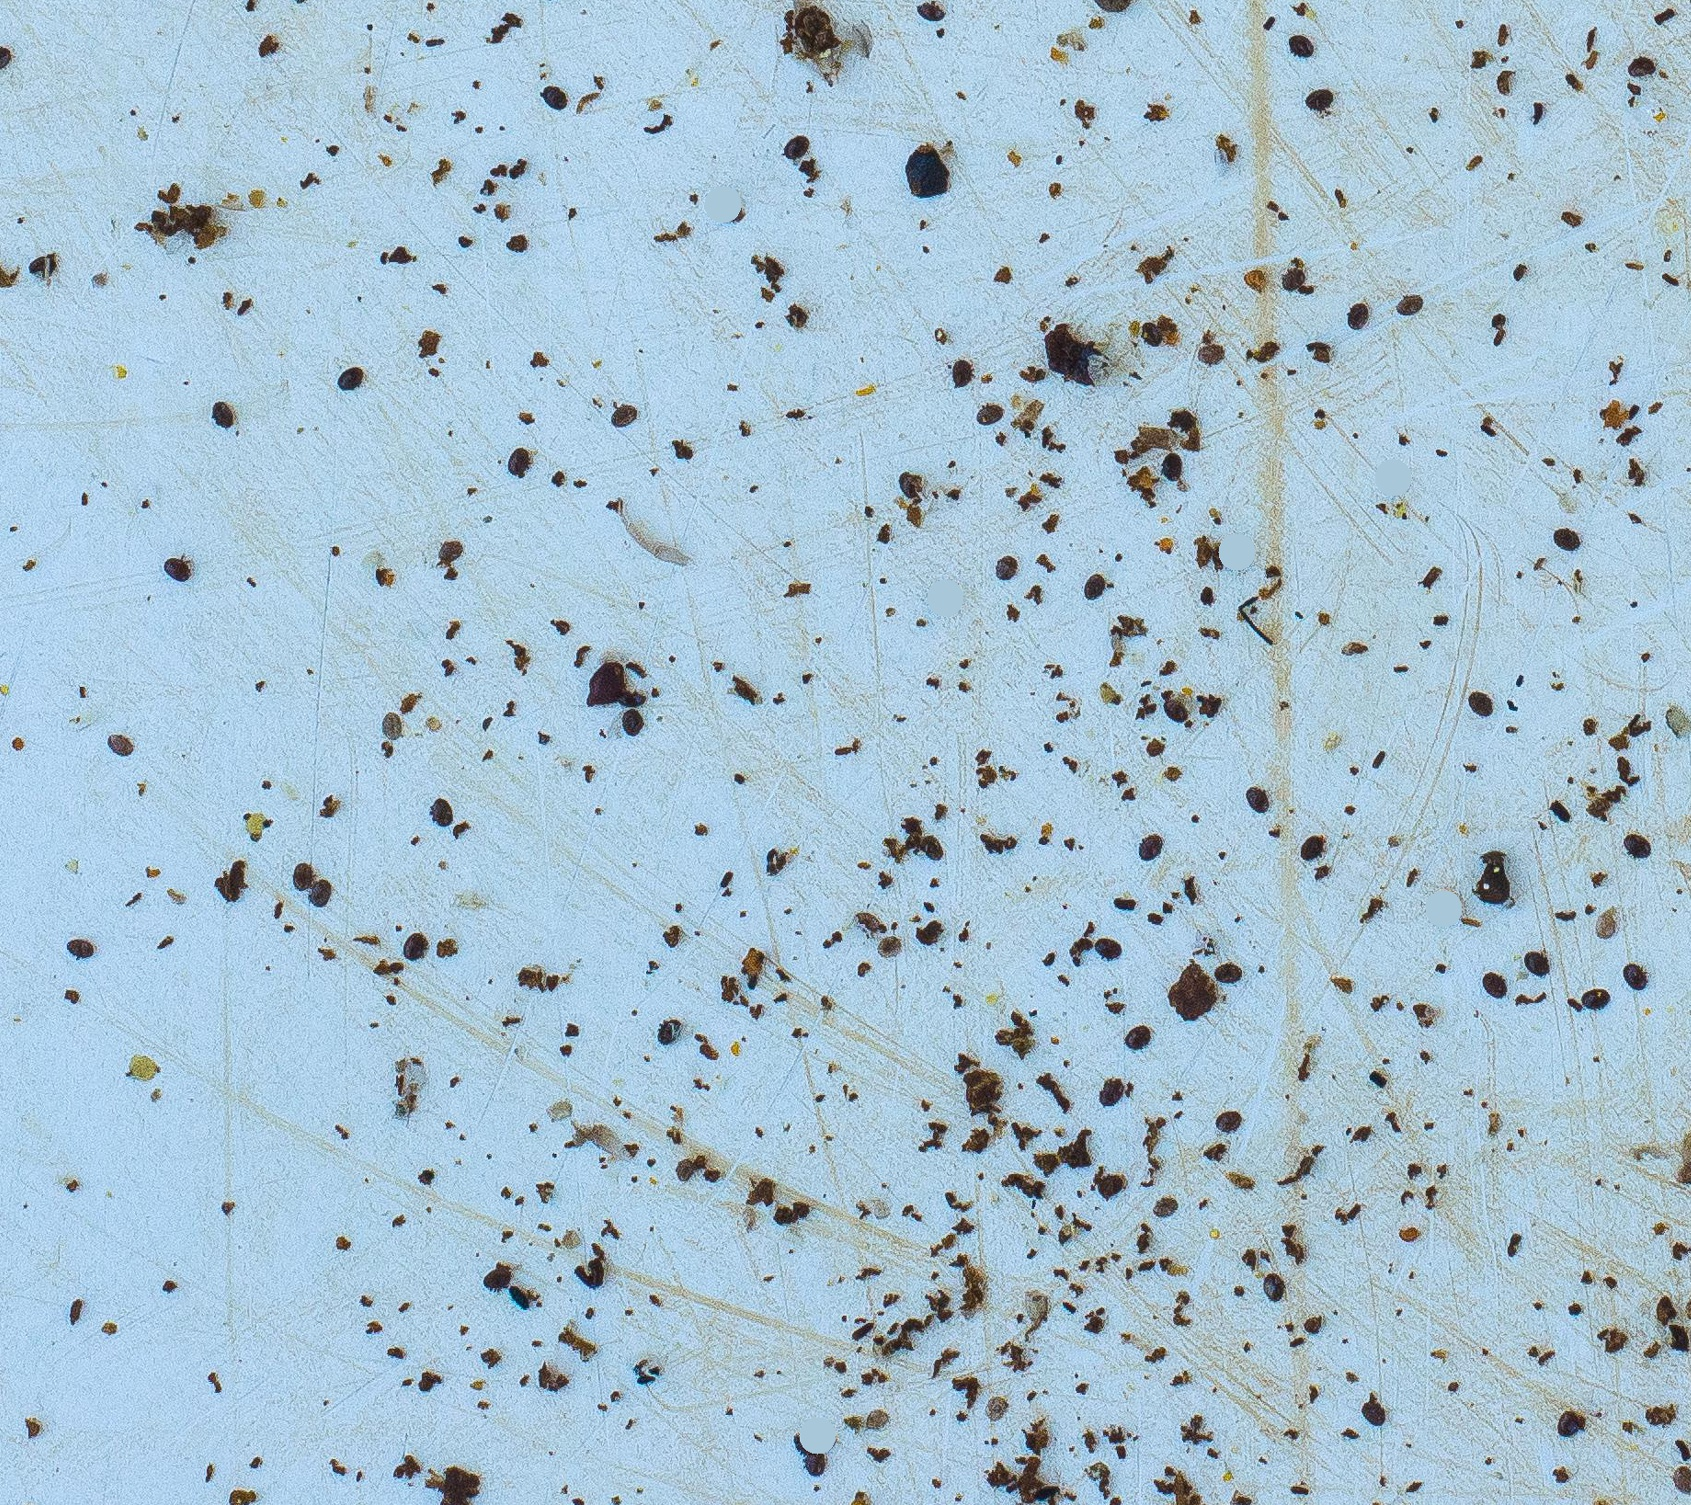Varroa: (612, 678, 651, 718), (205, 389, 241, 429), (892, 466, 928, 503), (1130, 311, 1165, 347), (986, 551, 1021, 584), (431, 532, 465, 567), (1627, 46, 1660, 81), (800, 1444, 834, 1477), (1300, 84, 1334, 118), (780, 131, 812, 166), (1276, 263, 1307, 296), (1124, 1018, 1156, 1052), (918, 829, 950, 863), (376, 707, 408, 739), (426, 795, 458, 827), (1156, 450, 1188, 482), (1339, 299, 1371, 331), (1135, 828, 1167, 860), (67, 928, 97, 962), (606, 399, 636, 431), (1358, 1395, 1389, 1427), (1076, 572, 1107, 604), (1095, 928, 1126, 960), (285, 859, 315, 891), (1469, 686, 1499, 716), (972, 401, 1002, 431), (917, 1, 947, 32), (1477, 963, 1508, 994), (1091, 1074, 1123, 1103), (1152, 1194, 1181, 1225), (539, 81, 569, 110), (301, 876, 330, 906), (487, 1267, 516, 1297), (1552, 526, 1581, 555), (1260, 1270, 1289, 1299), (1217, 959, 1246, 988), (657, 1023, 684, 1052), (338, 360, 368, 388), (1618, 957, 1646, 986), (1158, 694, 1185, 723), (949, 357, 976, 386), (407, 933, 434, 962), (1216, 1106, 1244, 1133), (1581, 978, 1608, 1005), (1299, 832, 1326, 860), (1246, 782, 1273, 811), (506, 447, 532, 476), (619, 705, 645, 731), (108, 729, 134, 755), (1290, 26, 1316, 52), (161, 552, 186, 580), (1395, 285, 1421, 309), (1527, 949, 1552, 973), (1560, 1411, 1585, 1434), (1624, 829, 1647, 851)
